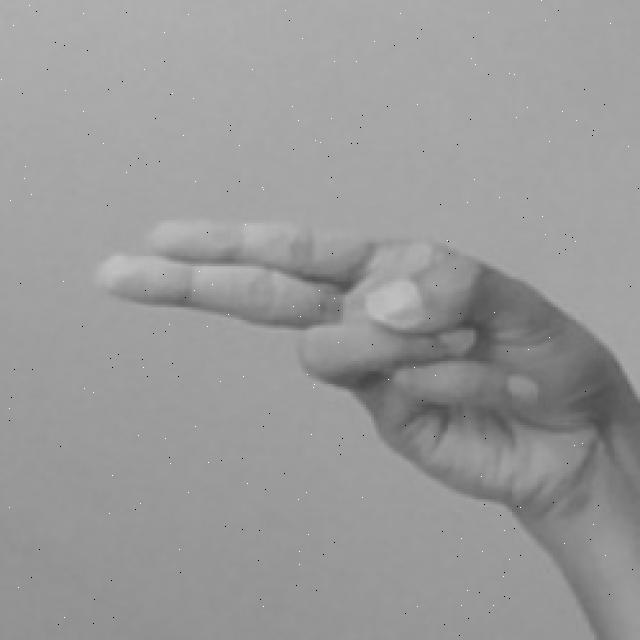H: (89, 210, 640, 640)
